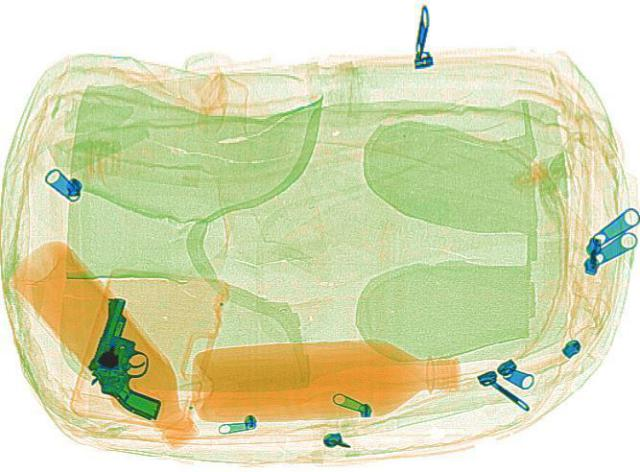Gun: (68, 294, 194, 419)
